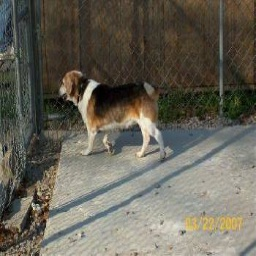dog: (51, 68, 168, 162)
